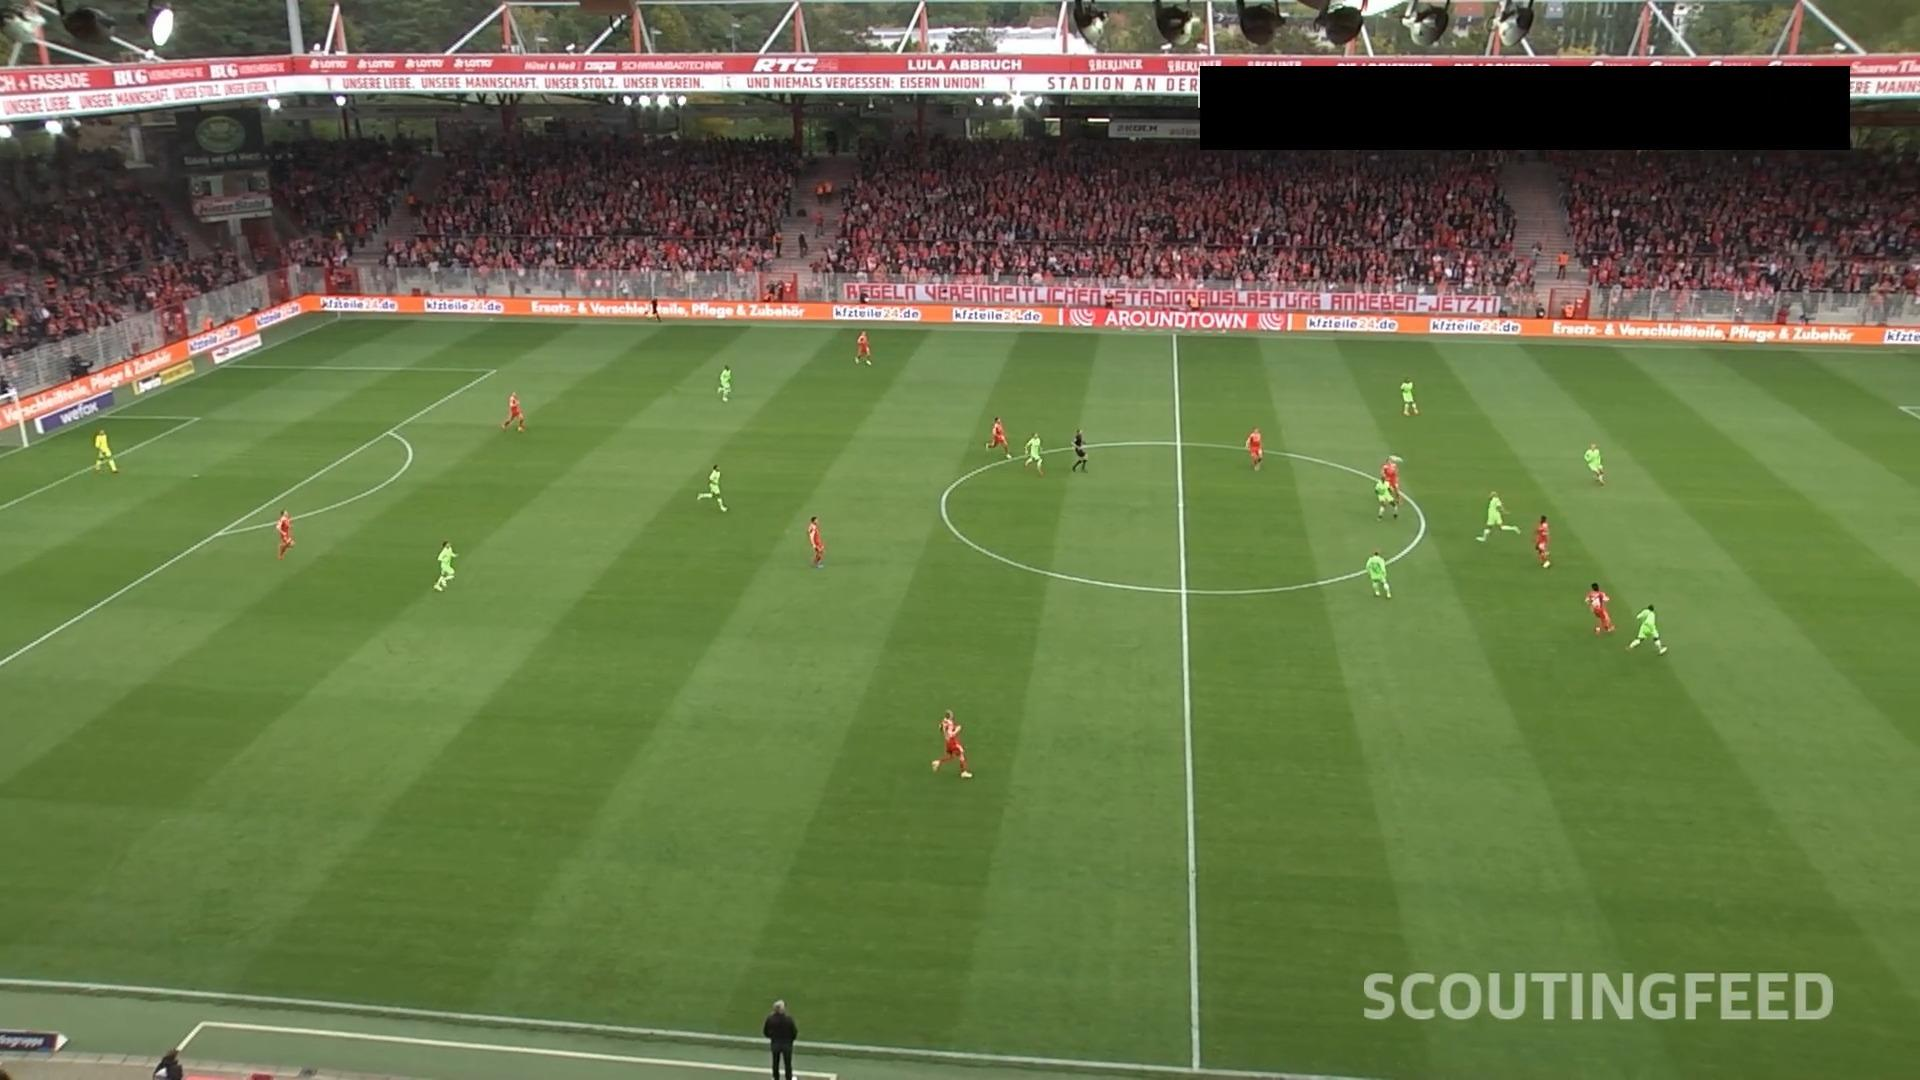ball: (1390, 452, 1403, 463)
